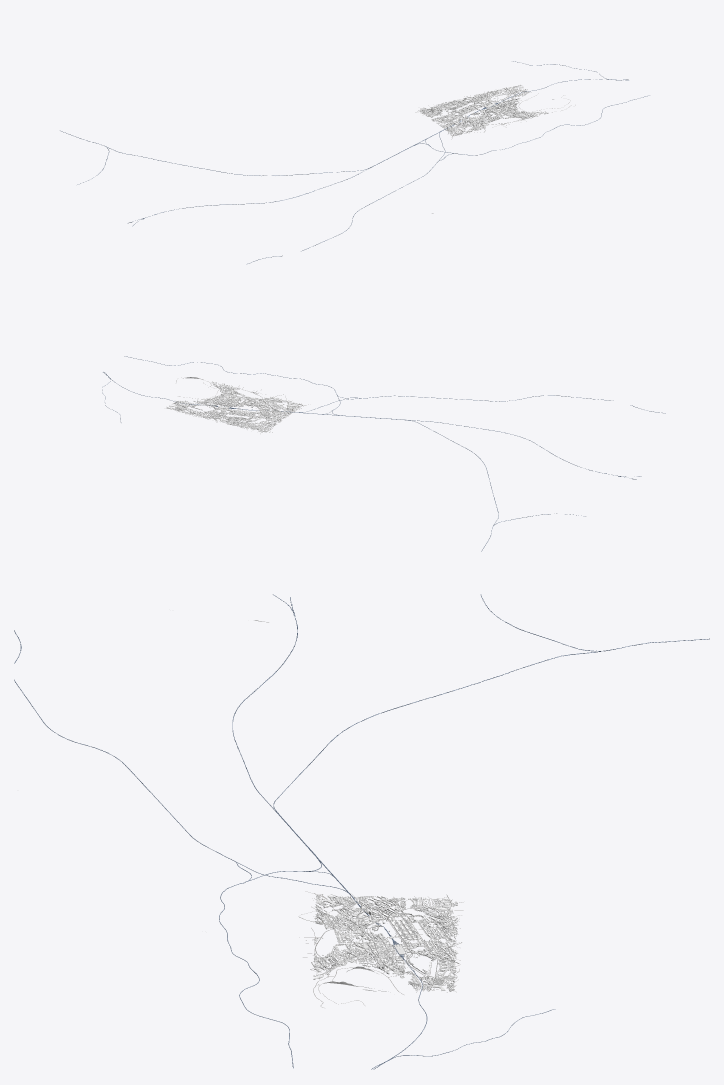
Rendered from edinburgh_city.glb.
The picture shows the model from 3 angles, top to bottom: view 1: azimuth 30°, elevation 25°; view 2: azimuth 150°, elevation 25°; view 3: azimuth 270°, elevation 25°; orthographic projection. The views are drawn at different scales.
Size of the model in its own units: 185 by 2.66 by 115.
